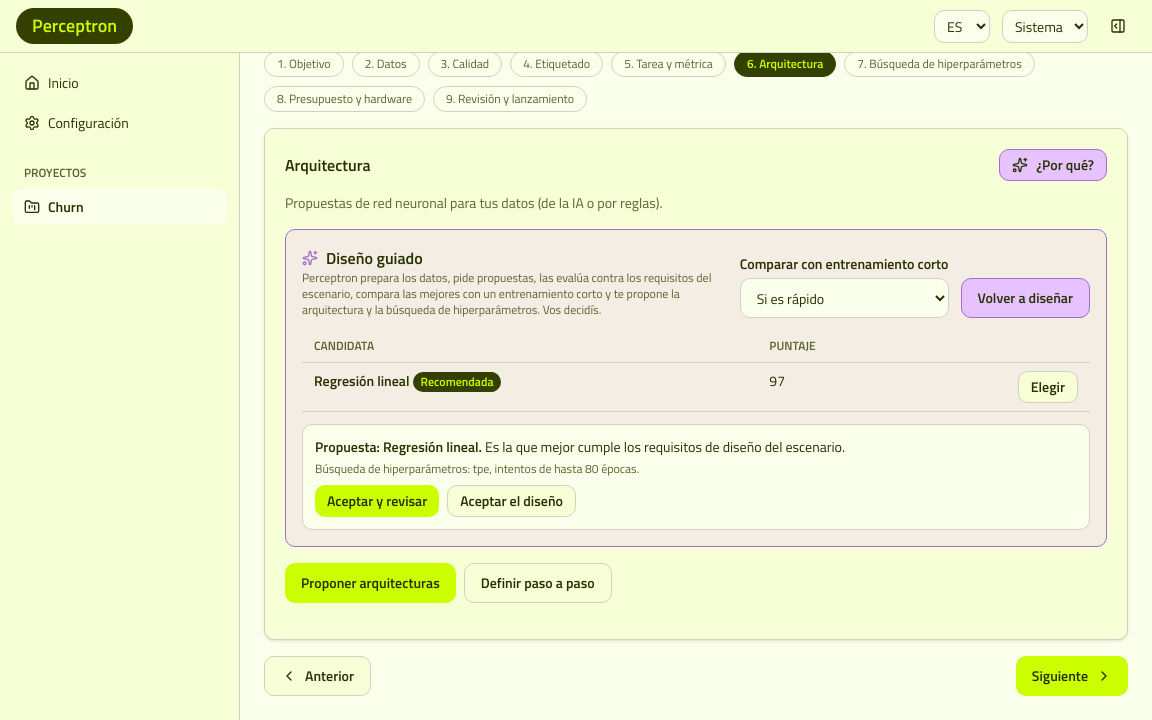
Test: wizard adaptativo, fase 2 › «Aceptar y revisar» fija el diseño y pasa a la revisión en un clic
This screenshot has width=1152, height=720.
(page scrolled)
Click the button "Aceptar y revisar".
click(377, 501)  # box [315,485,439,517]
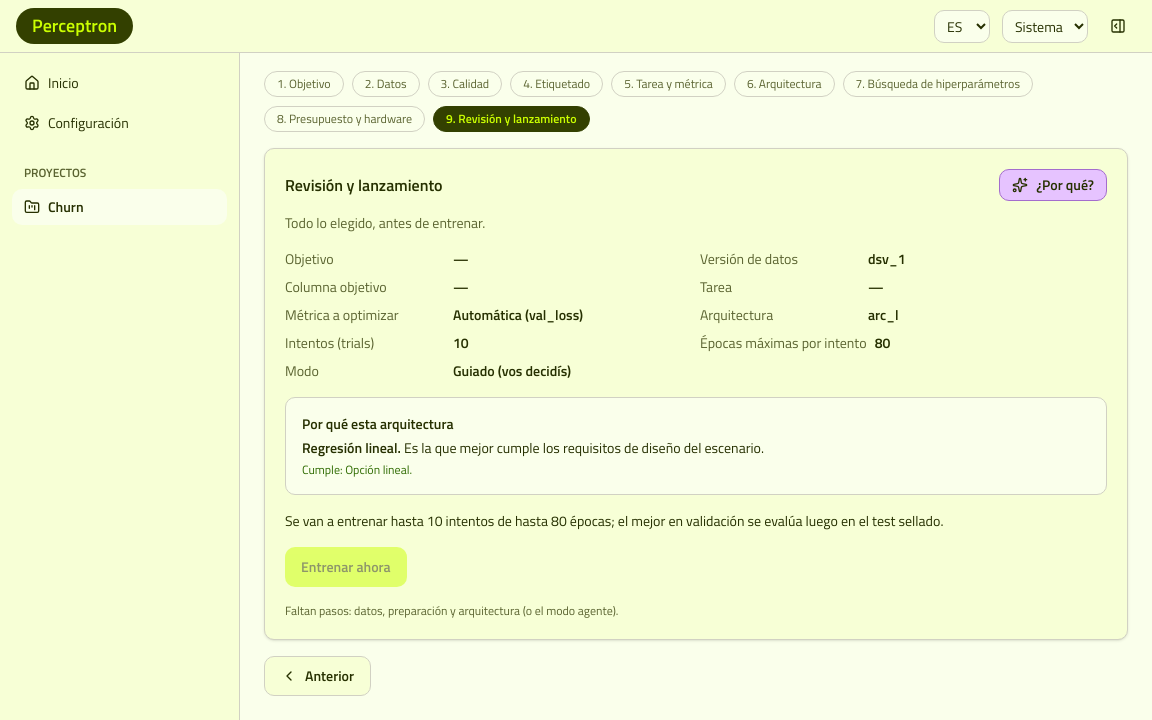
Expected: the element "Por qué esta arquitectura" shows "Regresión lineal", [302,437,398,458]
Expected: the element "Por qué esta arquitectura" shows "Cumple: Opción lineal.", [302,460,412,479]
